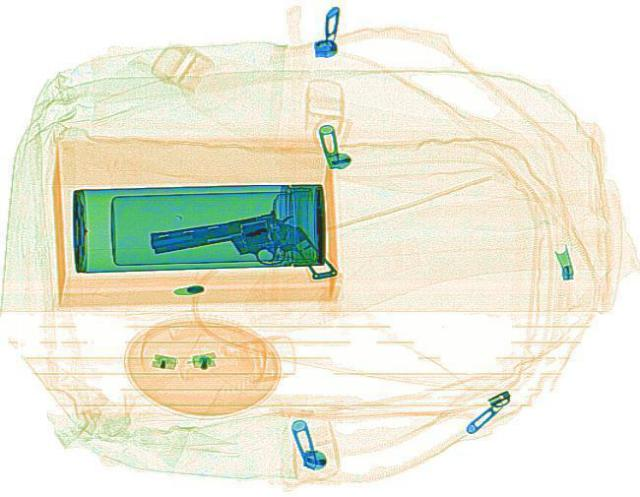Gun: (142, 202, 338, 303)
